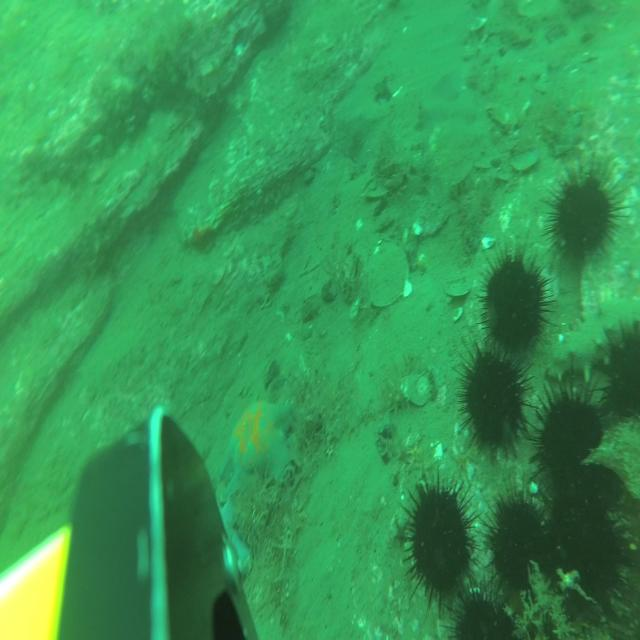echinus: (400, 470, 480, 620), (532, 366, 608, 516), (551, 492, 631, 626), (545, 154, 628, 271), (454, 339, 528, 465), (482, 478, 550, 610), (480, 246, 552, 366), (600, 320, 640, 444), (445, 578, 515, 640)
scallop: (366, 245, 411, 309), (400, 372, 433, 407), (446, 279, 472, 298)
starfish: (193, 488, 252, 602), (225, 399, 292, 496)
